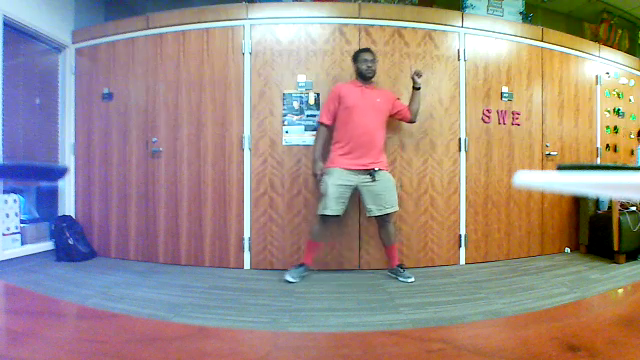up: (407, 63, 427, 92)
